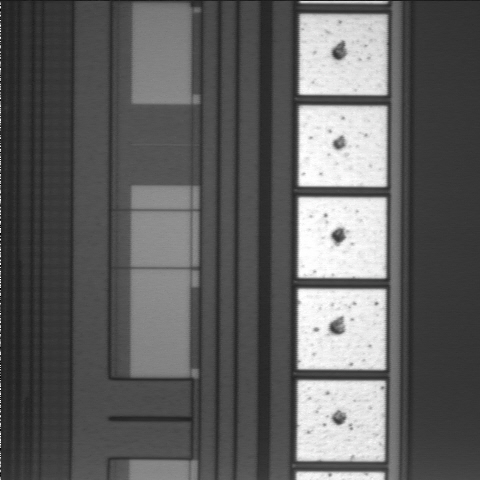pad: (299, 14, 387, 95), (299, 106, 387, 187), (298, 197, 386, 278), (298, 289, 386, 370), (297, 380, 385, 461)
